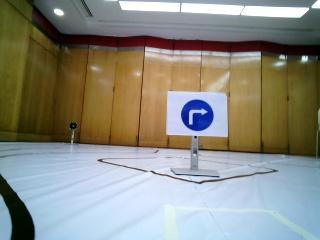right: (166, 95, 227, 134)
